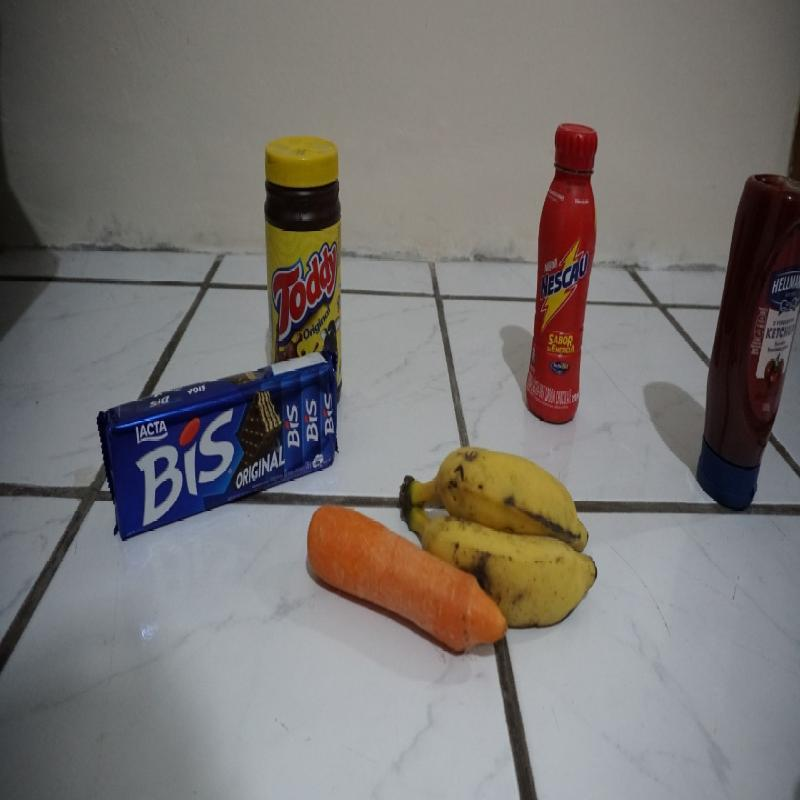Banana: (399, 445, 603, 544)
Carrot: (304, 493, 403, 626)
Chocolate Milk: (526, 120, 600, 419)
Chocolate Powder: (262, 134, 342, 350)
Ketchup: (699, 152, 799, 518)
